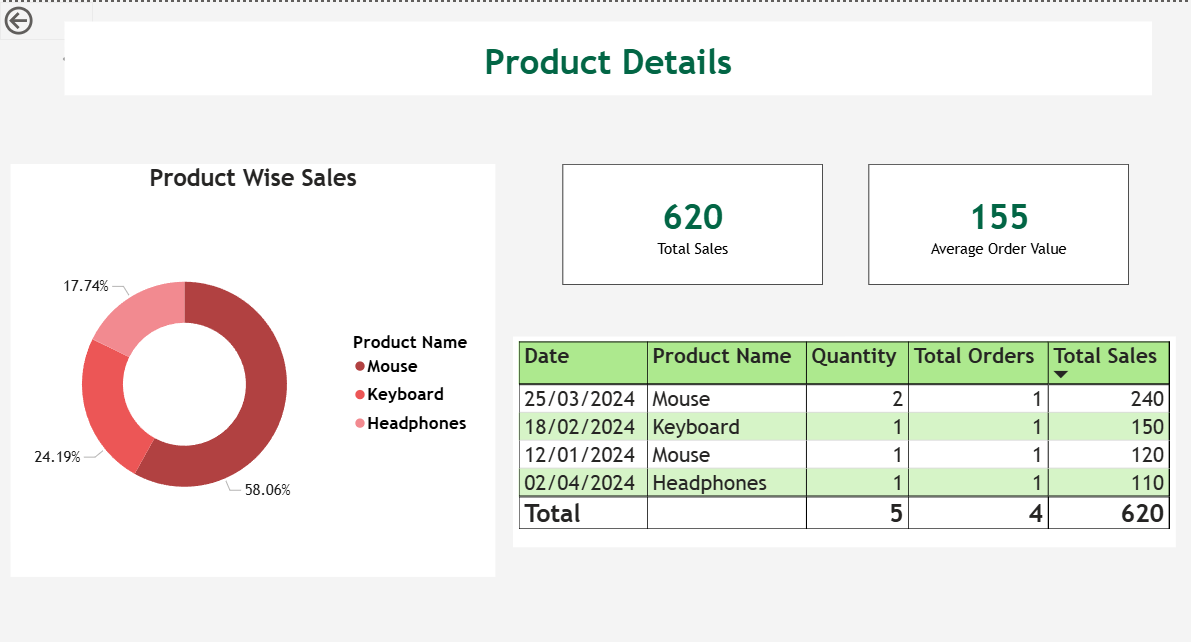

The page's visual inventory and layout, read from the dashboard file:
{"tool":"powerbi","page":{"name":"Product Details","canvas":[1280,720],"ordinal":1},"visuals":[{"type":"tableEx","fields":{"Values":["Sales.OrderDate","Products.ProductName","Sales.Total Quantity","Sales.Total Orders","Sum(Sales.Sales)"]},"box":[552.2,359.5,712.5,226.7],"z":0},{"type":"actionButton","box":[0,0,100,40],"z":1000},{"type":"textbox","box":[69.6,21,1169.1,79.3],"z":2000},{"type":"donutChart","title":"Product Wise Sales","fields":{"Category":["Products.ProductName"],"Y":["Sales.Total Sales"]},"box":[11.3,174.9,521.4,443.7],"z":3000},{"type":"card","fields":{"Values":["Sales.Total Sales"]},"box":[605.4,174.6,280,129.8],"z":4000},{"type":"card","fields":{"Values":["Sales.Average Order Value"]},"box":[933.9,174.6,280,129.8],"z":5000}]}

Visuals, with their boxes on the page's 1280x720 design canvas (x1, y1, x2, y2). These are canvas units, not pixel positions in the 1191x642 screenshot, which may show the page scaled, cropped or inside an application window:
tableEx - Sales.OrderDate x Products.ProductName: <region>552, 360, 1265, 586</region>
actionButton: <region>0, 0, 100, 40</region>
textbox: <region>70, 21, 1239, 100</region>
"Product Wise Sales" donutChart: <region>11, 175, 533, 619</region>
card - Sales.Total Sales: <region>605, 175, 885, 304</region>
card - Sales.Average Order Value: <region>934, 175, 1214, 304</region>
